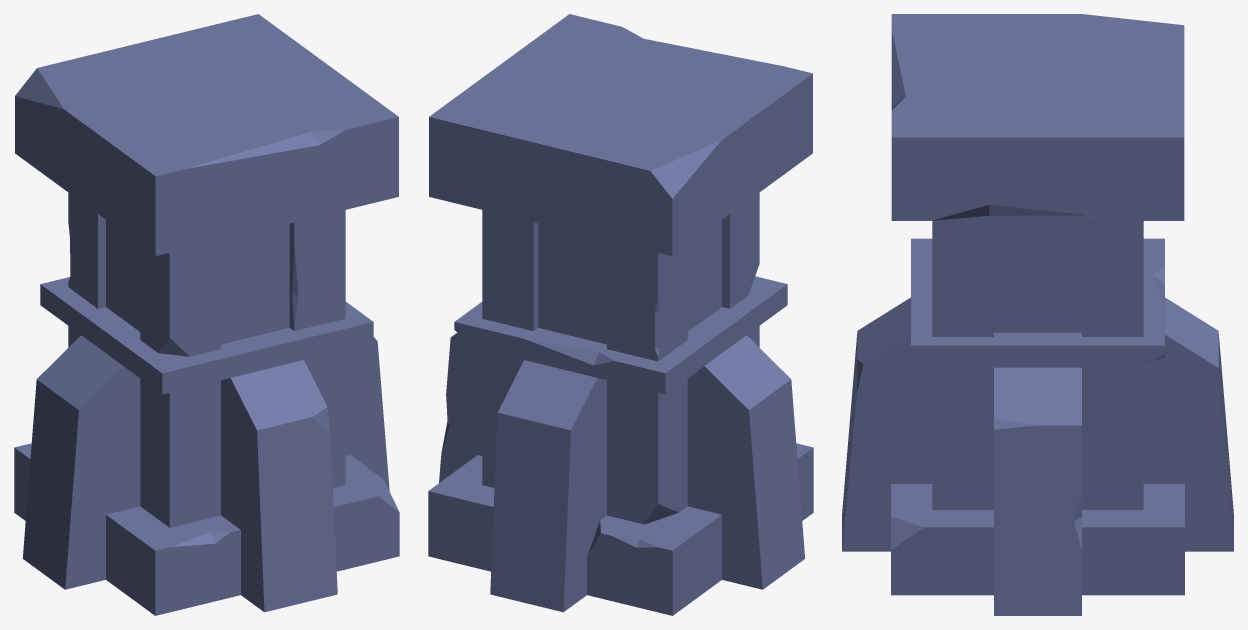
The model's file is column_3_2.fbx.
The picture shows the model from 3 angles, left to right: view 1: azimuth 30°, elevation 25°; view 2: azimuth 150°, elevation 25°; view 3: azimuth 270°, elevation 25°; orthographic projection. The views are drawn at different scales.
Visible parts, largest first — view 1: column_3_2; view 2: column_3_2; view 3: column_3_2.
Part boxes in pixels (left/top/right/bottom): column_3_2: left=14, top=14, right=399, bottom=615; column_3_2: left=428, top=14, right=813, bottom=615; column_3_2: left=842, top=14, right=1233, bottom=615.
Bounding box in the file's own units: 8 × 10.31 × 8.
